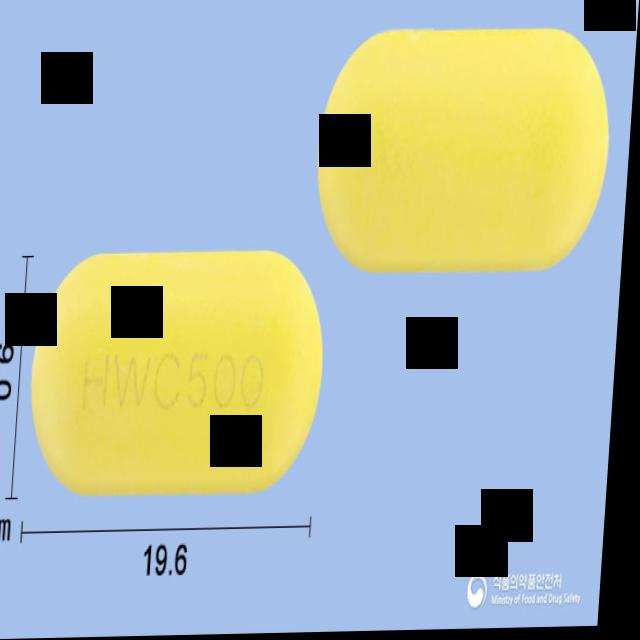Clacid: (27, 238, 342, 510), (311, 19, 621, 284)
